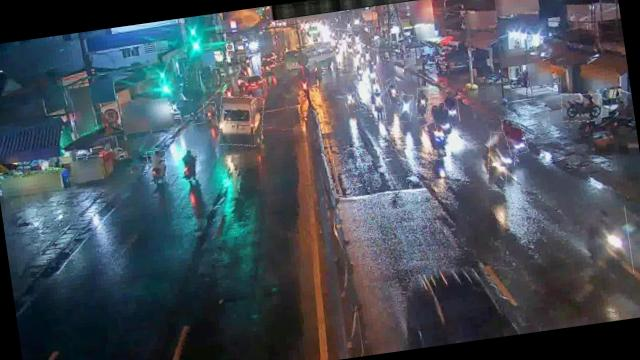Bike: (579, 205, 634, 280), (560, 90, 604, 124), (484, 130, 518, 169), (422, 119, 449, 160), (501, 115, 526, 156), (484, 152, 509, 190), (145, 149, 168, 184), (431, 102, 453, 137), (177, 148, 200, 180), (414, 87, 432, 118), (396, 93, 414, 122), (370, 90, 386, 120), (444, 93, 459, 122), (202, 100, 218, 126), (385, 78, 400, 104), (366, 72, 382, 93), (344, 92, 359, 112)
Bus: (215, 92, 268, 149)
